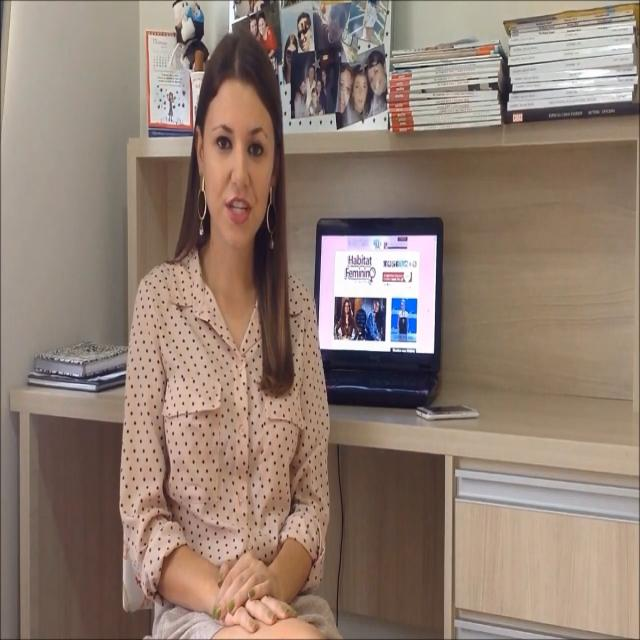Shirt: (118, 239, 330, 602)
